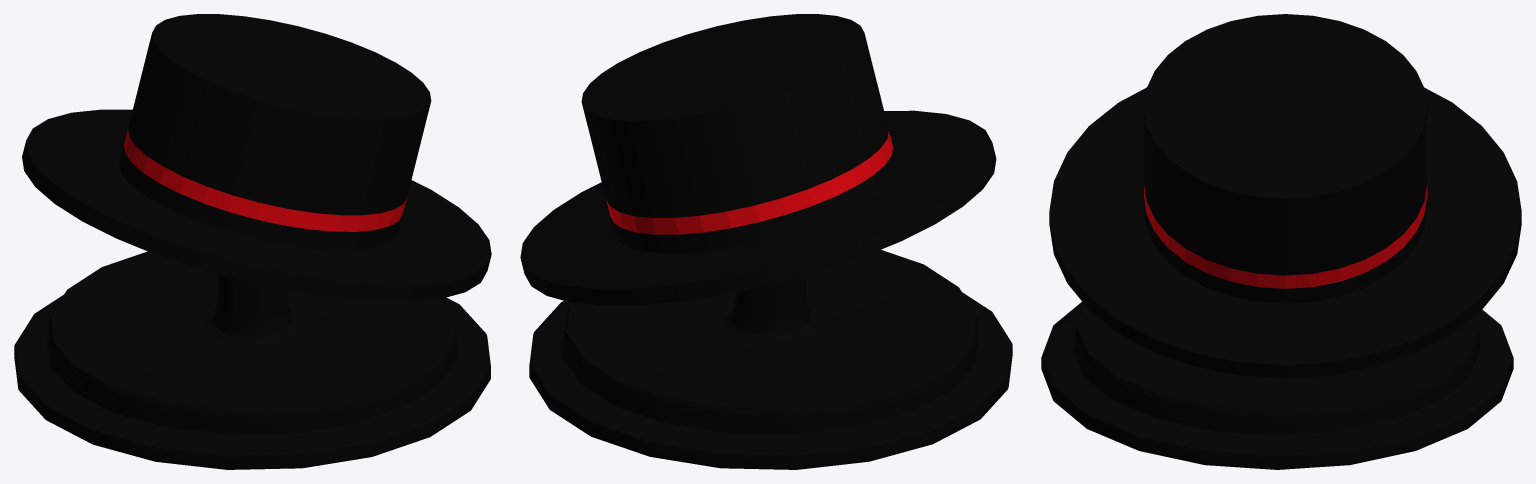
File: chapeau.fbx
3 views of the same model, side by side, from view 1: azimuth 30°, elevation 25°; view 2: azimuth 150°, elevation 25°; view 3: azimuth 270°, elevation 25° (orthographic). The views are drawn at different scales.
Visible parts, largest first — view 1: Chapeau, Socle_pomme; view 2: Chapeau, Socle_pomme; view 3: Chapeau, Socle_pomme.
Boxes of the visible parts, x1=… form: Chapeau: x1=22, y1=14, x2=491, y2=301; Socle_pomme: x1=14, y1=251, x2=490, y2=469; Chapeau: x1=520, y1=14, x2=996, y2=305; Socle_pomme: x1=529, y1=250, x2=1012, y2=469; Chapeau: x1=1049, y1=14, x2=1521, y2=378; Socle_pomme: x1=1041, y1=302, x2=1513, y2=469.
Size of the model in its own units: 201 by 150 by 203.
